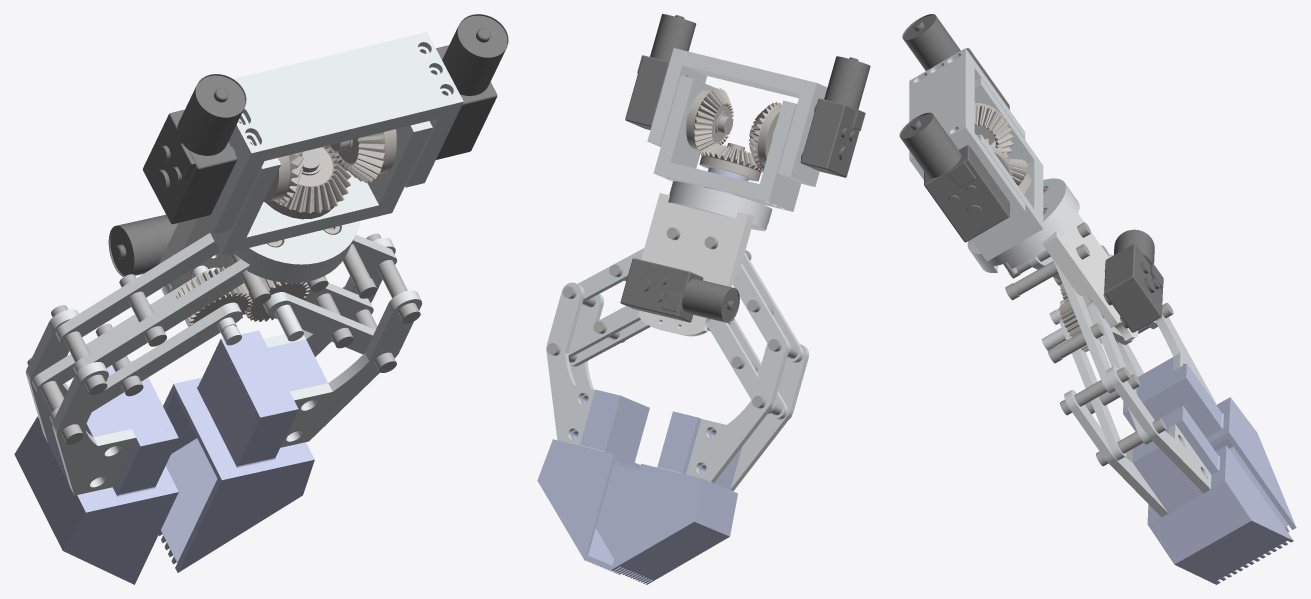
File: Gripper.obj
3 views of the same model, side by side, from view 1: azimuth 30°, elevation 25°; view 2: azimuth 150°, elevation 25°; view 3: azimuth 270°, elevation 25° (orthographic). The views are drawn at different scales.
Parts seen in each view (by area): view 1: GripperFINAL; view 2: GripperFINAL; view 3: GripperFINAL.
Part boxes in pixels (box(x1,y1,x2,y2)): GripperFINAL: box(14, 14, 508, 584); GripperFINAL: box(537, 14, 870, 584); GripperFINAL: box(899, 14, 1296, 584).
Size of the model in its own units: 0.1786 by 0.3392 by 0.2376.
